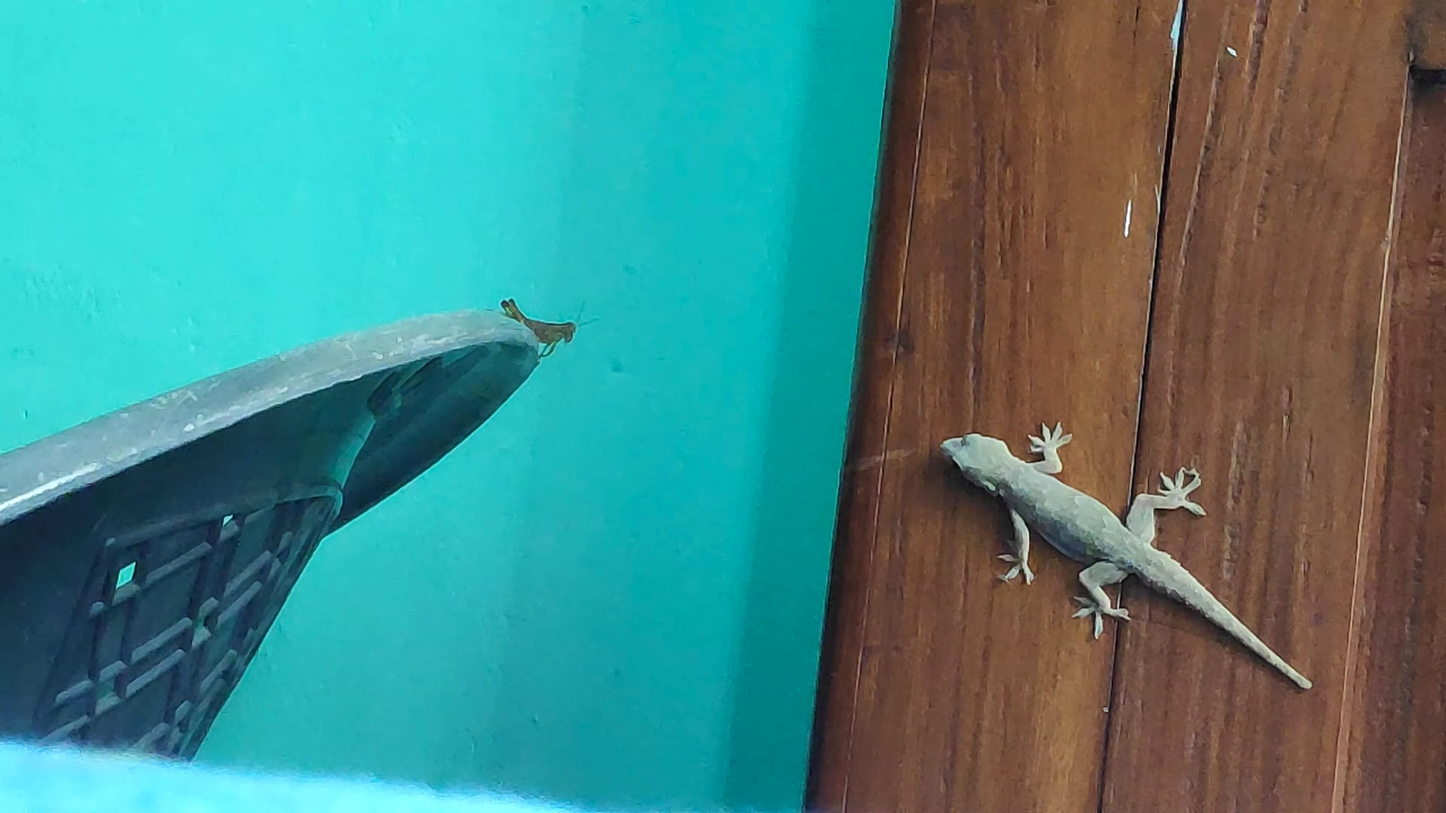lizard: (930, 407, 1308, 690)
